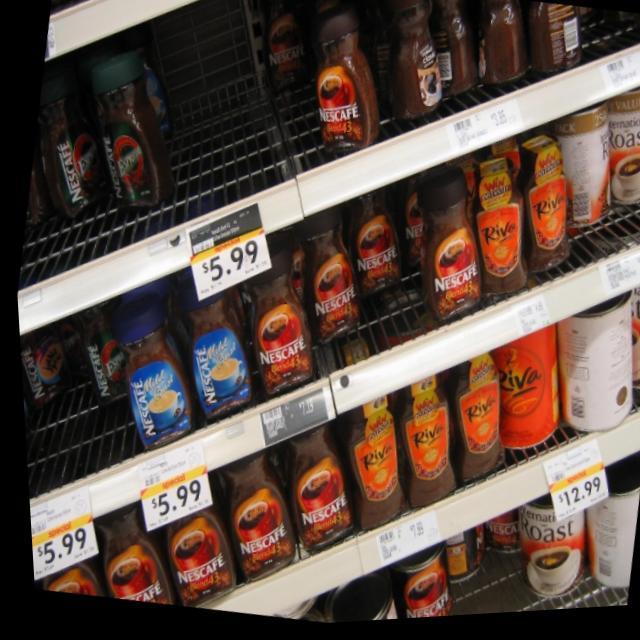q13: (290, 13, 389, 175), (392, 176, 497, 327), (124, 484, 243, 612), (252, 421, 361, 560), (189, 453, 296, 585), (224, 266, 323, 405), (272, 233, 369, 354), (334, 198, 412, 313)
